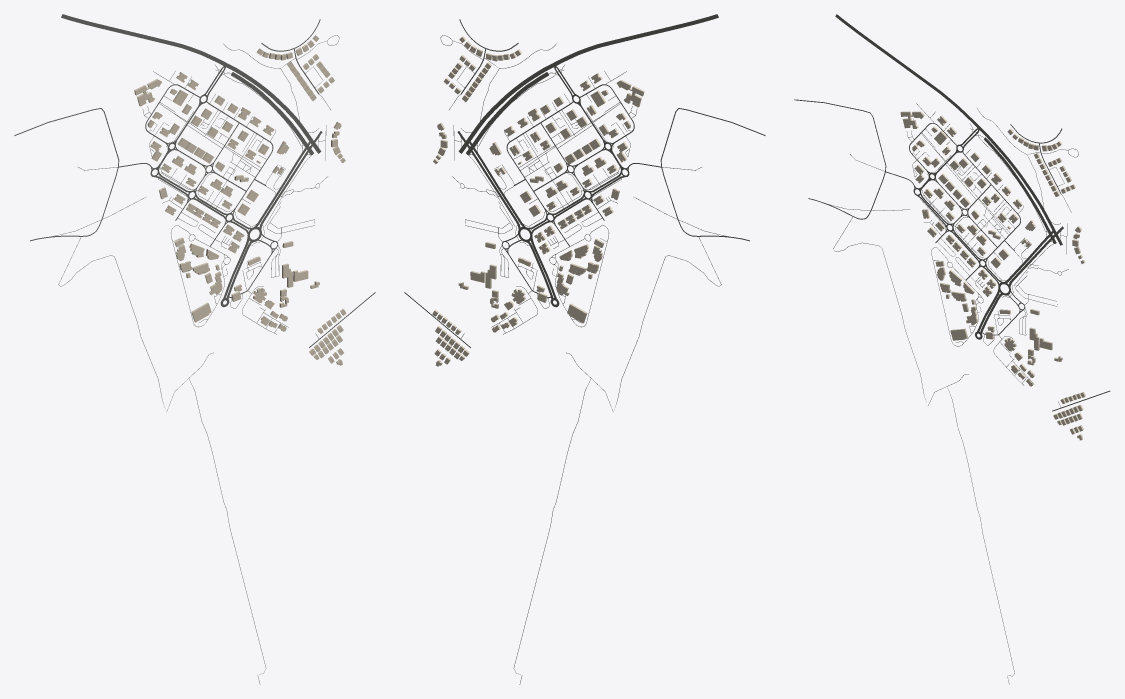
Rendered from historic-palestine-06_18_3475_3125.glb.
3 views of the same model, side by side, from view 1: azimuth 30°, elevation 25°; view 2: azimuth 150°, elevation 25°; view 3: azimuth 330°, elevation 25° (orthographic). The views are drawn at different scales.
Visible parts, largest first — view 1: Road שדרות דוד טוביהו.003, Road .026; view 2: Road שדרות דוד טוביהו.003, Road .026; view 3: Road שדרות דוד טוביהו.003, Road .026.
Boxes of the visible parts, bbox=[...] form: Road שדרות דוד טוביהו.003: bbox=[61, 14, 304, 130]; Road .026: bbox=[58, 237, 266, 684]; Road שדרות דוד טוביהו.003: bbox=[475, 14, 718, 130]; Road .026: bbox=[513, 237, 721, 684]; Road שדרות דוד טוביהו.003: bbox=[835, 14, 1048, 218]; Road .026: bbox=[833, 217, 1014, 684].
Size of the model in its own units: 1225 by 2328 by 9.09.
